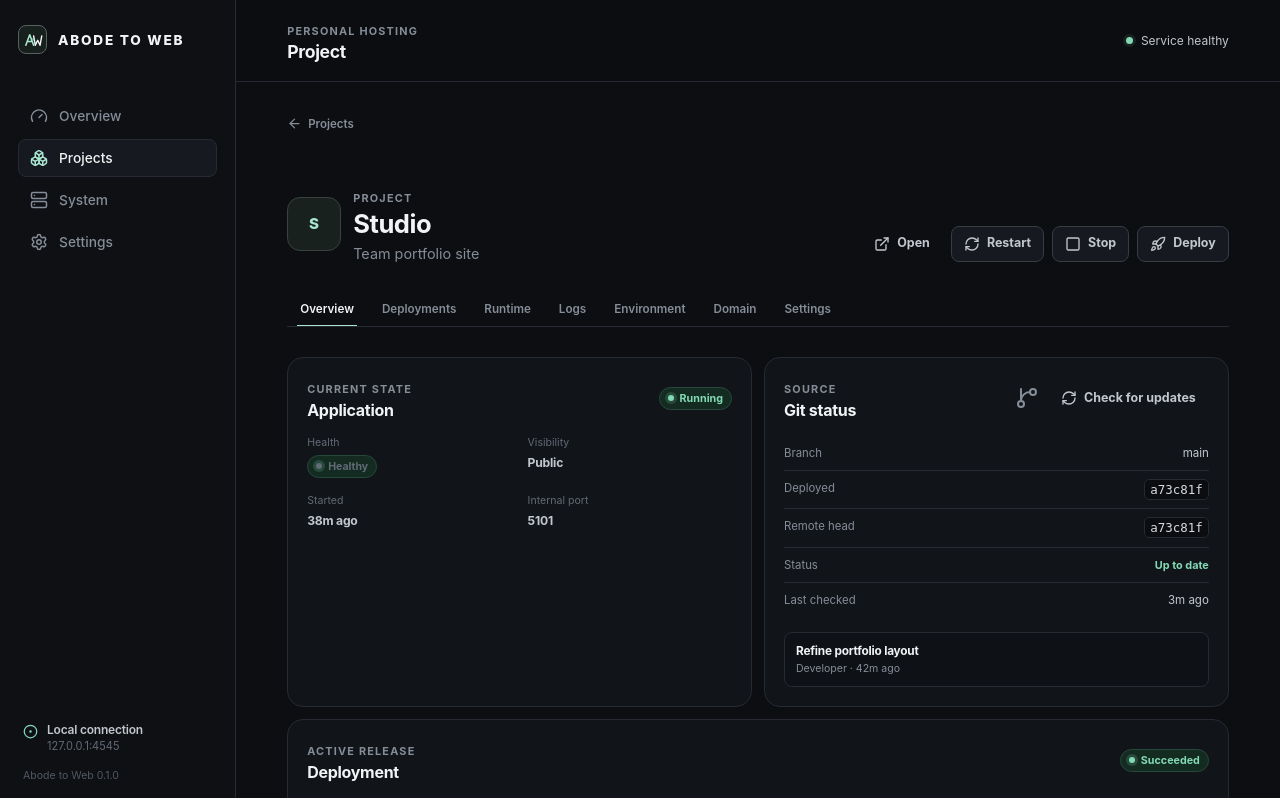
Test: project Git status › runs the predefined update check and refreshes after completion
Step 1. Click the button "Check for updates" → (1128, 398), box [1048,380,1209,416]
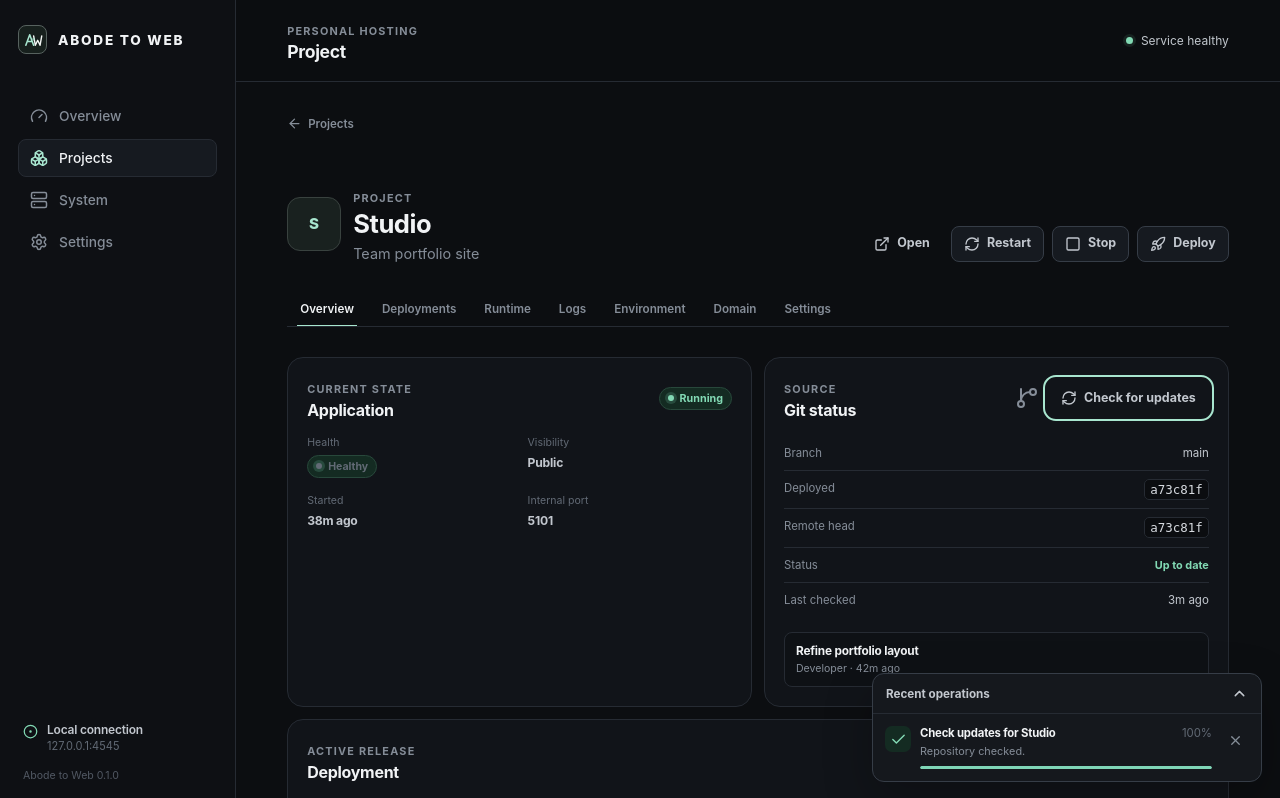
Now the text "Repository checked." is shown, box [920,744,1025,758]
